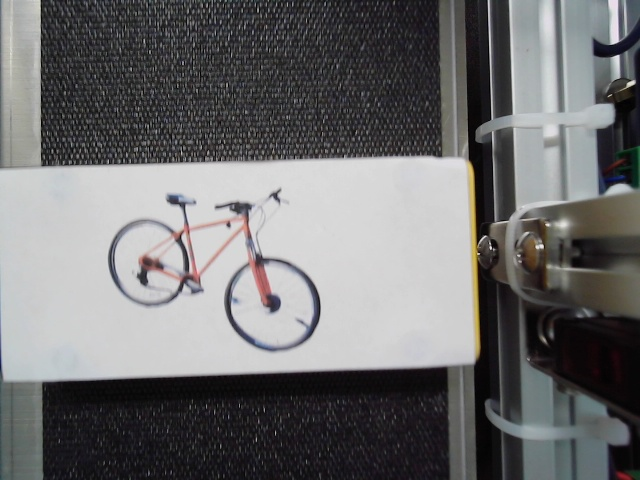bicycle: (103, 186, 326, 353)
